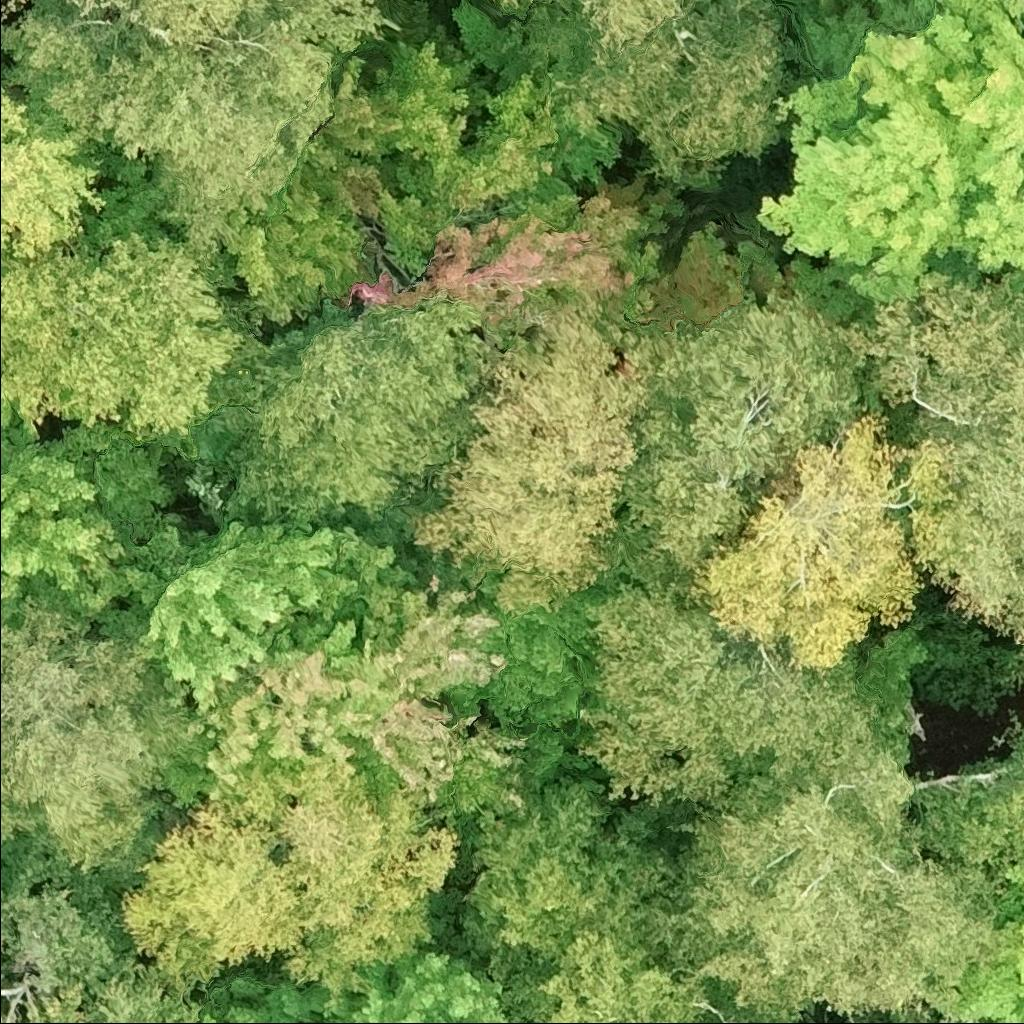crown: (162, 556, 529, 827), (645, 770, 1018, 1023), (573, 576, 914, 841), (755, 0, 1023, 325), (0, 0, 337, 258), (118, 763, 460, 1010), (402, 297, 666, 615), (620, 288, 870, 599), (680, 408, 931, 672), (214, 291, 493, 528), (0, 593, 204, 907), (99, 510, 401, 719), (348, 167, 688, 348), (0, 227, 250, 443), (219, 44, 405, 327), (522, 0, 797, 191), (460, 774, 689, 992), (448, 567, 621, 791), (0, 422, 173, 627), (391, 72, 624, 219), (503, 909, 798, 1023), (830, 272, 1023, 426), (10, 881, 203, 1023), (907, 416, 1023, 650), (201, 935, 509, 1023), (378, 0, 502, 185), (630, 206, 792, 341), (0, 77, 107, 259), (902, 723, 1023, 870), (131, 0, 399, 51), (951, 861, 1023, 1023), (528, 0, 687, 50), (378, 190, 454, 276), (0, 0, 30, 21), (196, 1010, 243, 1023), (1012, 649, 1023, 692), (492, 0, 523, 12), (854, 1022, 857, 1023)
